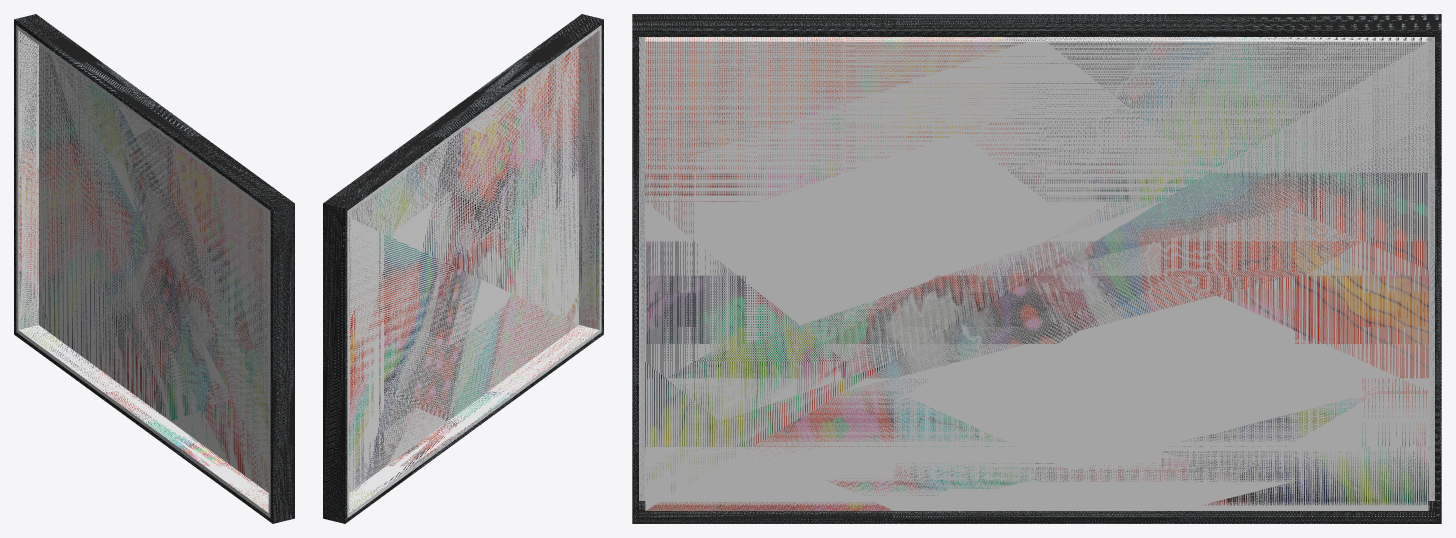
Rendered from art15.dae.
3 views of the same model, side by side, from view 1: azimuth 30°, elevation 25°; view 2: azimuth 150°, elevation 25°; view 3: azimuth 270°, elevation 25° (orthographic). The views are drawn at different scales.
Visible parts, largest first — view 1: group_0 (×3); view 2: group_0 (×3); view 3: group_0 (×4).
Boxes of the visible parts, x1,y1,x2,y2 form: group_0 (×3): (14,14,294,523); group_0 (×3): (323,14,603,523); group_0 (×4): (632,14,1441,523).
Size of the model in its own units: 1.18 by 24.02 by 16.14.
4 materials, 1 textured.
